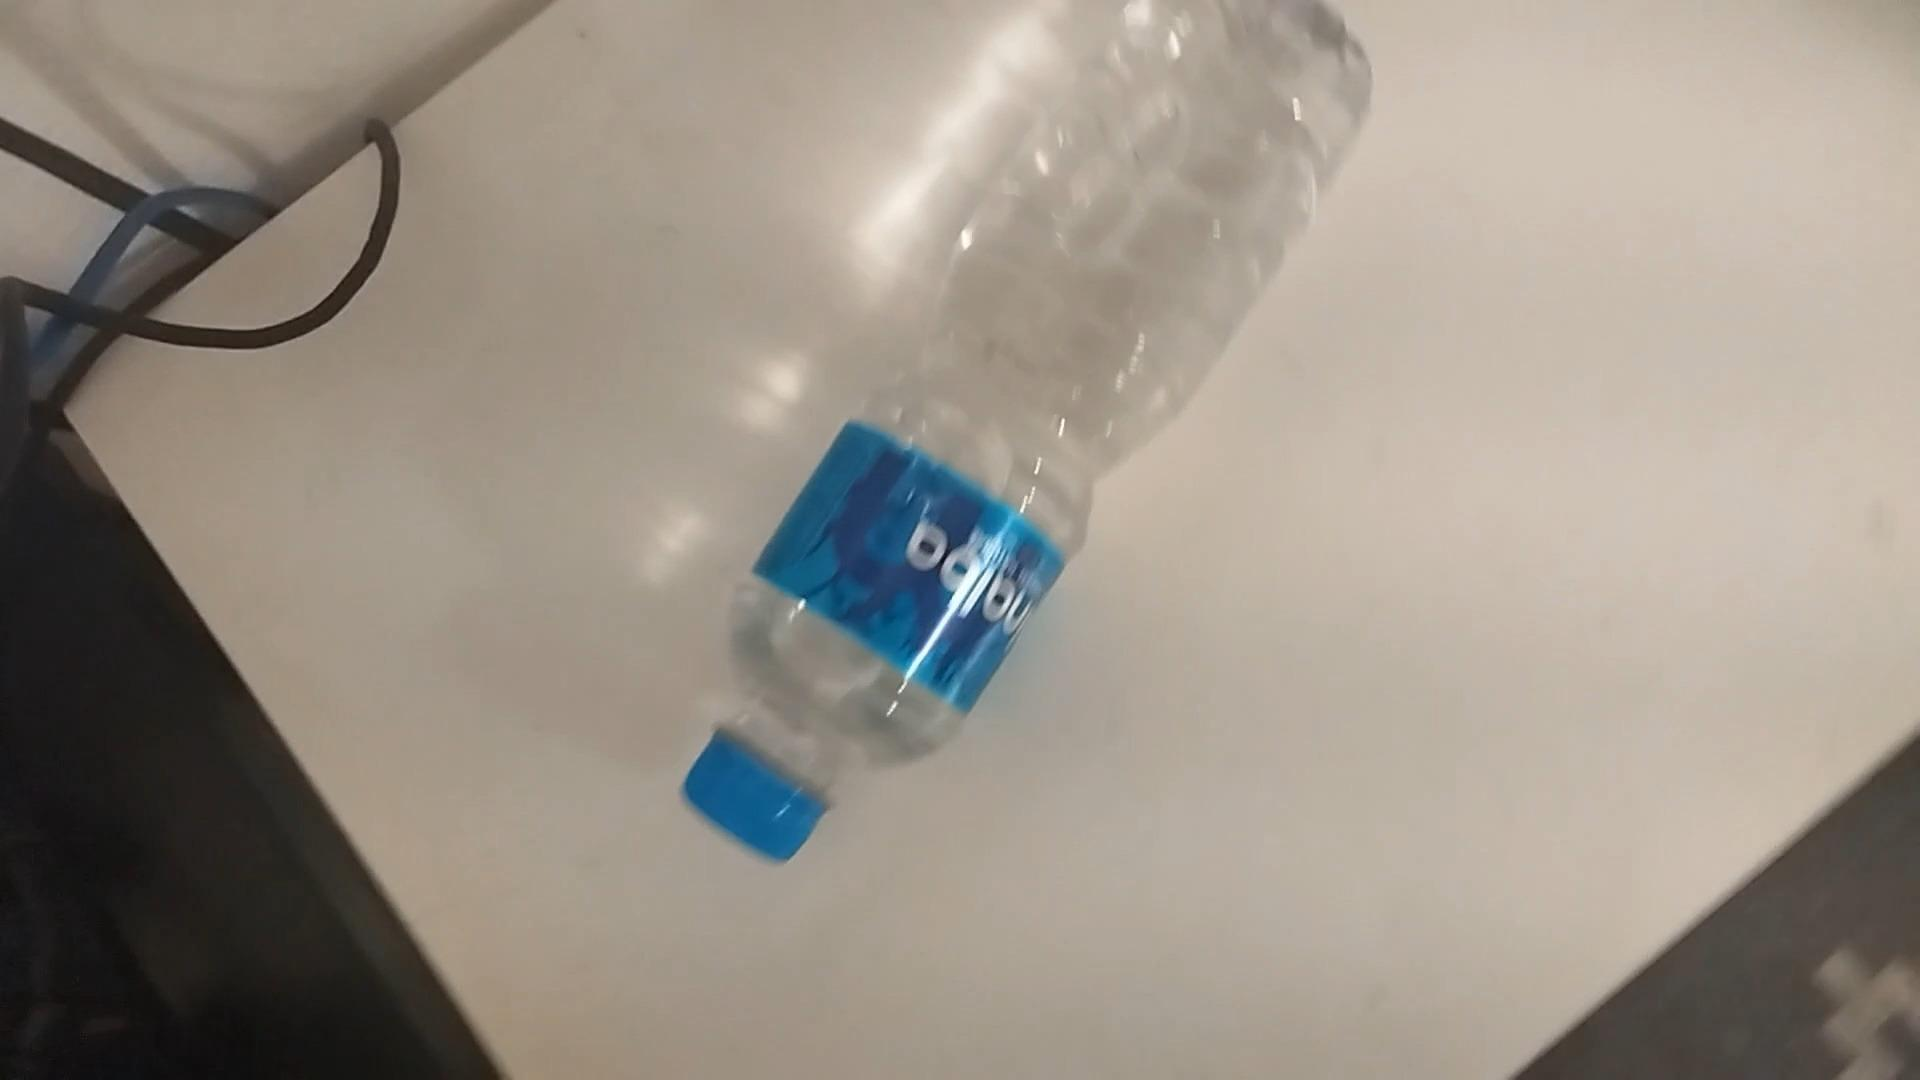agua: (679, 0, 1381, 864)
